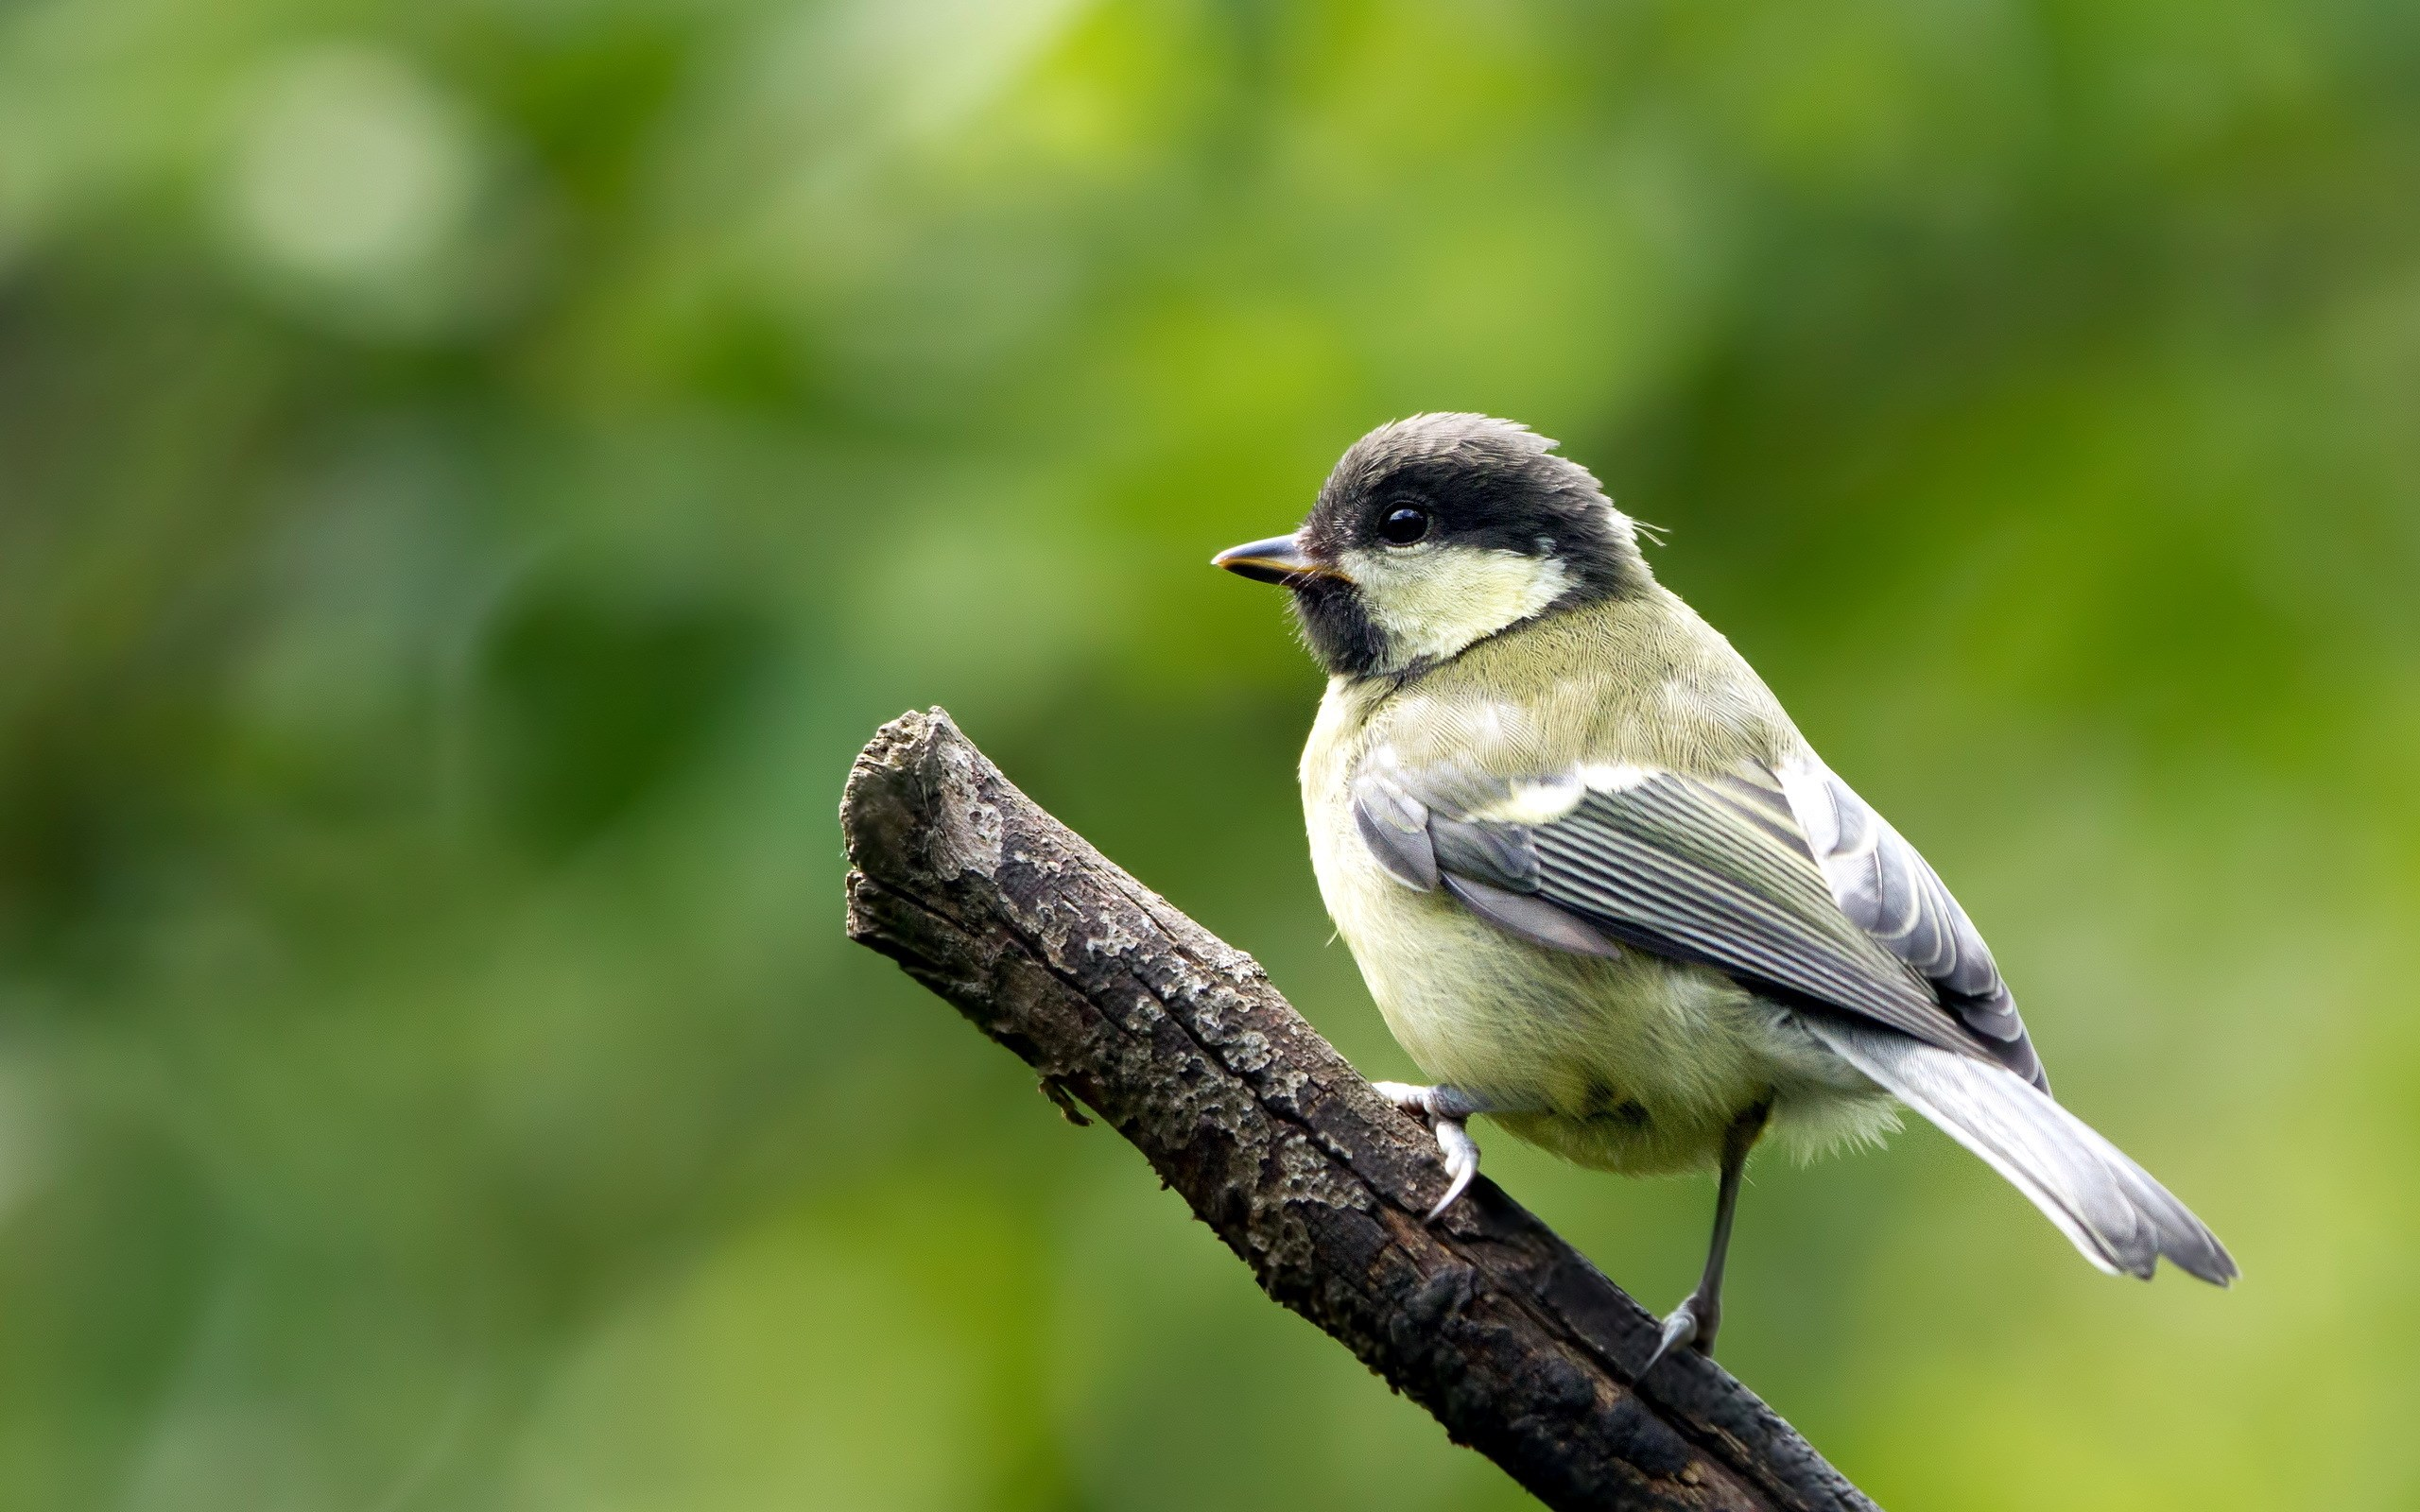bird: (1098, 314, 2251, 1456)
